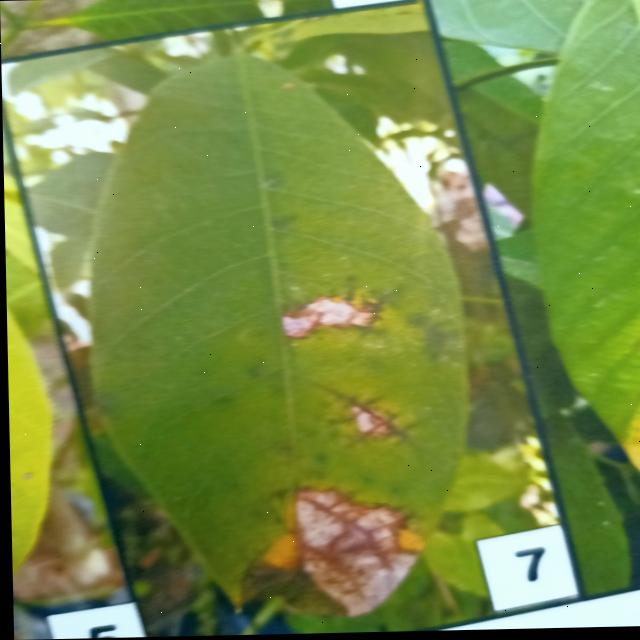Corynespora: (306, 492, 398, 570), (316, 383, 415, 451)
Leaf-Blight: (294, 488, 416, 618), (279, 299, 375, 338)
